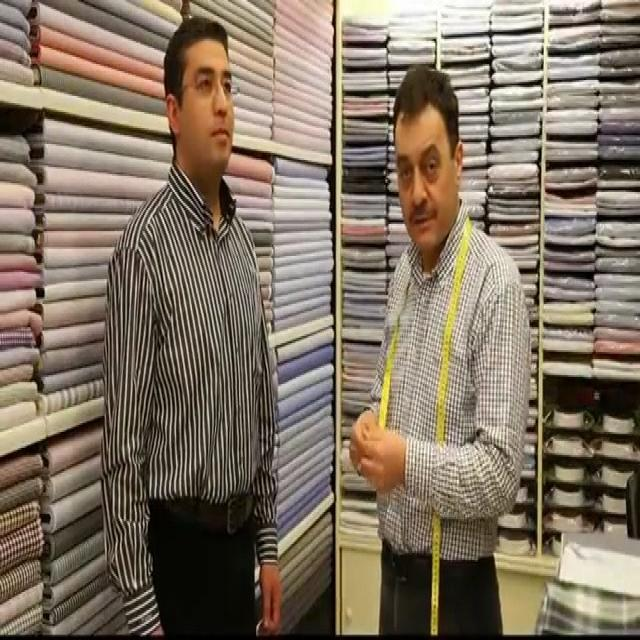shirt: (101, 154, 280, 634), (364, 191, 531, 564)
